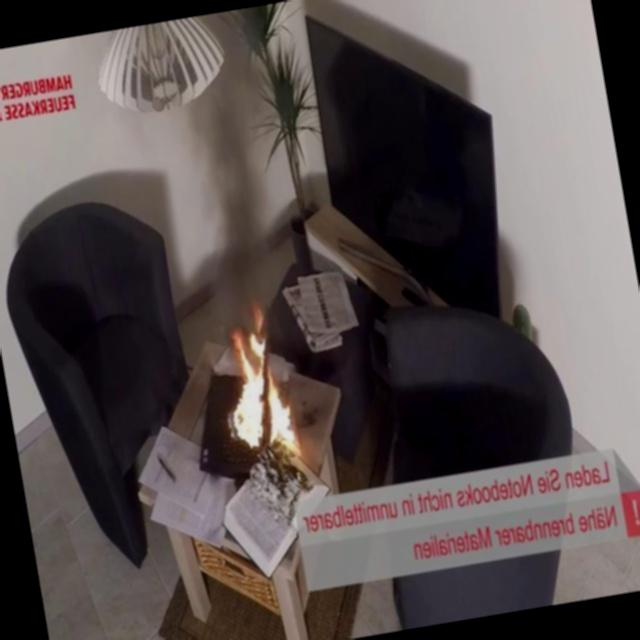fire: (201, 310, 308, 463)
